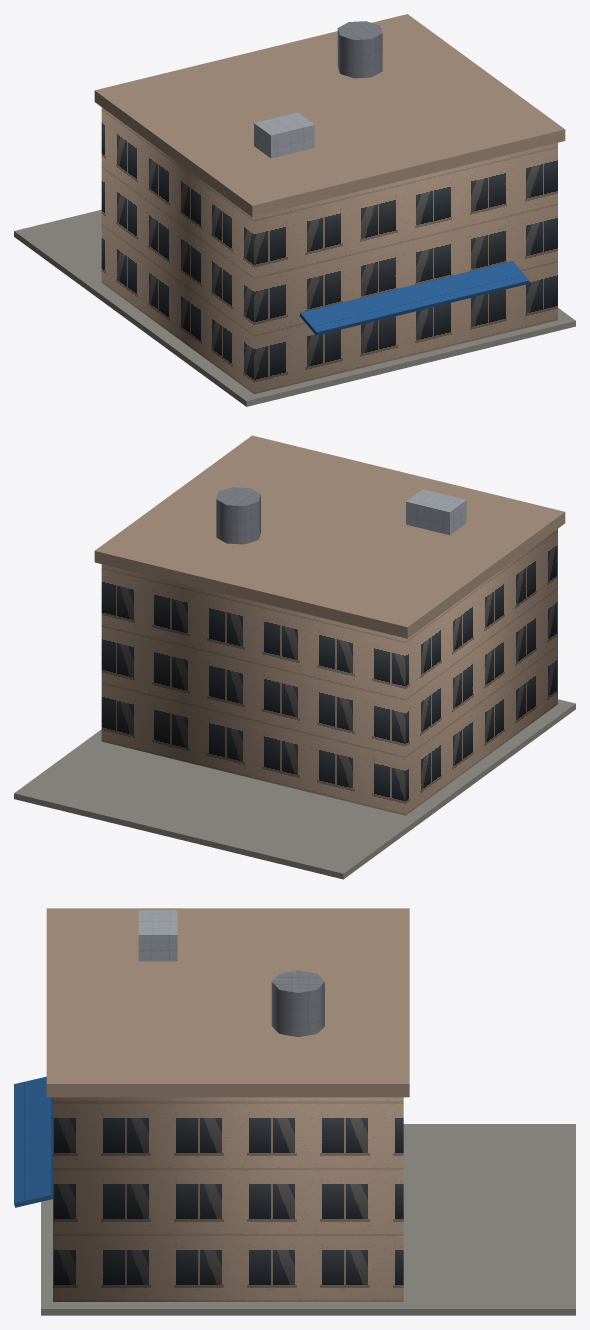
The model's file is predio_centro.glb.
3 renders of one model, top to bottom at view 1: azimuth 30°, elevation 25°; view 2: azimuth 150°, elevation 25°; view 3: azimuth 270°, elevation 25°, orthographic. The views are drawn at different scales.
Parts seen in each view (by area): view 1: predio_centro, predio_centro_liso; view 2: predio_centro, predio_centro_liso; view 3: predio_centro_liso, predio_centro.
Boxes of the visible parts, <box> form: predio_centro: <box>101,21,557,394</box>; predio_centro_liso: <box>14,14,575,406</box>; predio_centro: <box>101,487,557,815</box>; predio_centro_liso: <box>14,435,575,879</box>; predio_centro_liso: <box>41,908,575,1315</box>; predio_centro: <box>14,910,403,1301</box>.
Size of the model in its own units: 18 by 12.5 by 23.11.
4 materials, 3 textured.
